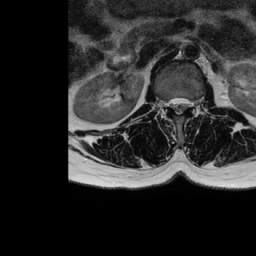CCS_normal: (175, 92, 181, 119)
LFS_stenosis: (189, 94, 195, 113)
LLS_normal: (182, 92, 188, 114)
RFS_normal: (162, 93, 170, 113)
RLS_normal: (169, 92, 176, 113)
